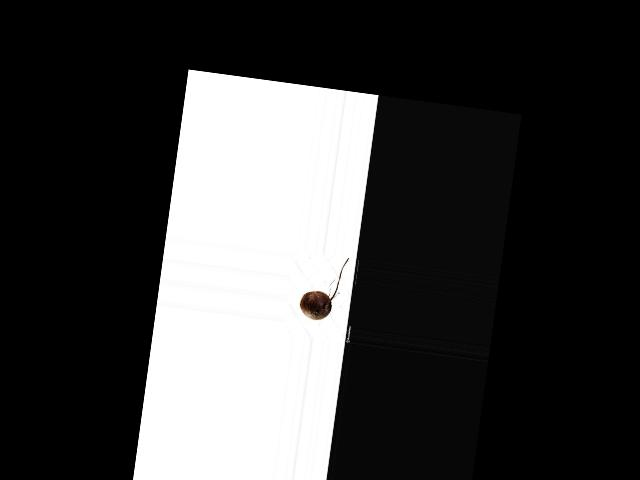beet: (298, 251, 349, 322)
